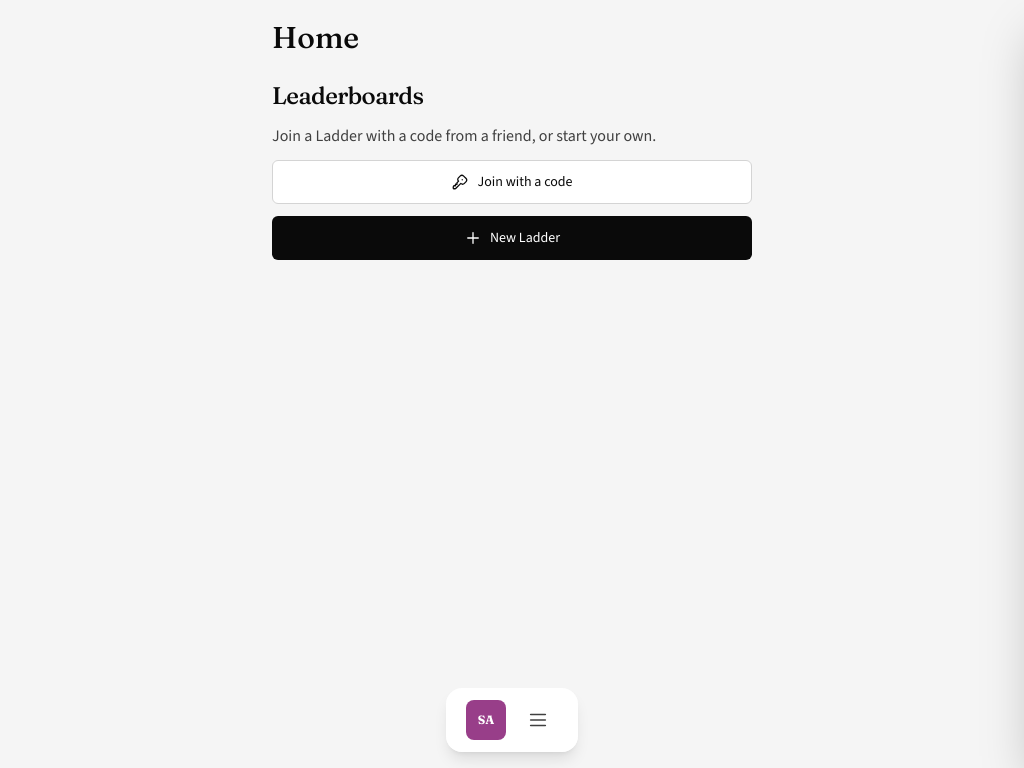
Scenario: Home Ladders › says when the lookup fails
Click the button "Join with a code": (512, 182) [272, 160, 752, 204]
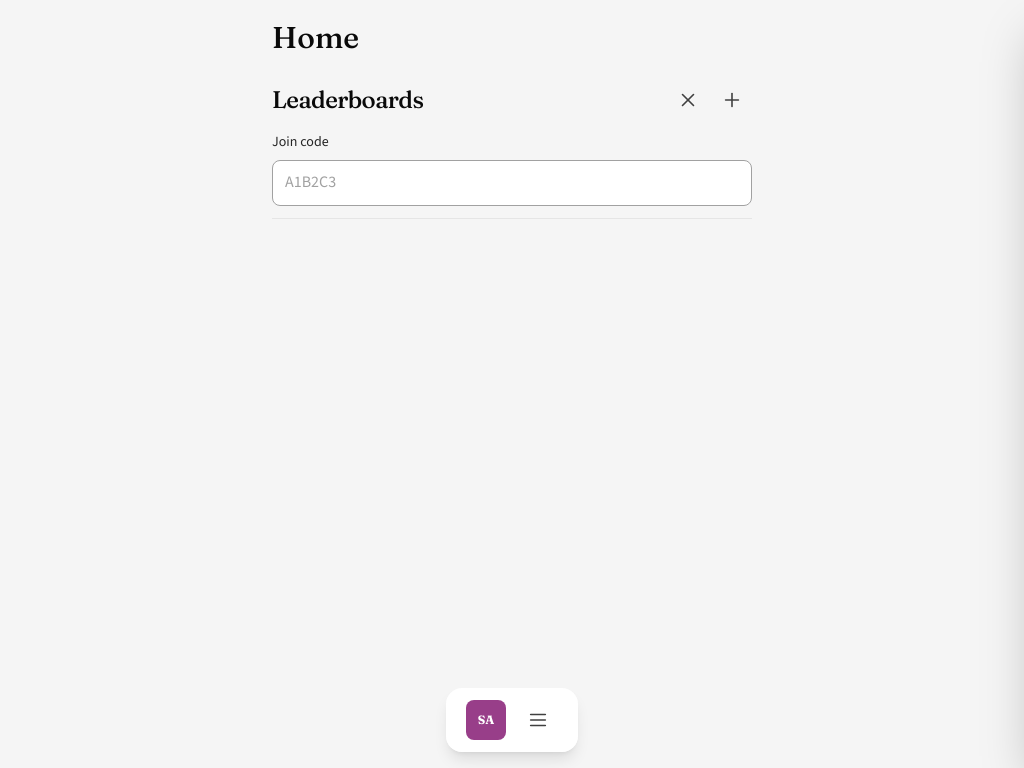
In the field labelled "Join code": (512, 183) [272, 160, 752, 206], type "FP7K2Q"
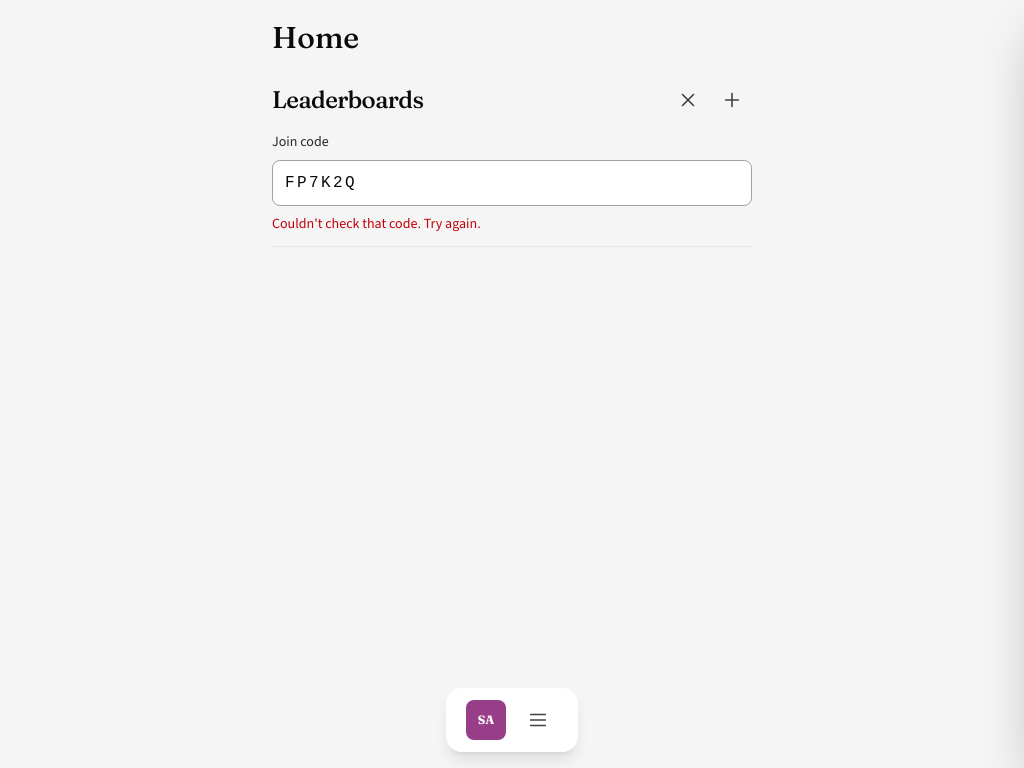
Expected: the text "Couldn't check that code. Try again." is shown, [272, 214, 481, 233]
